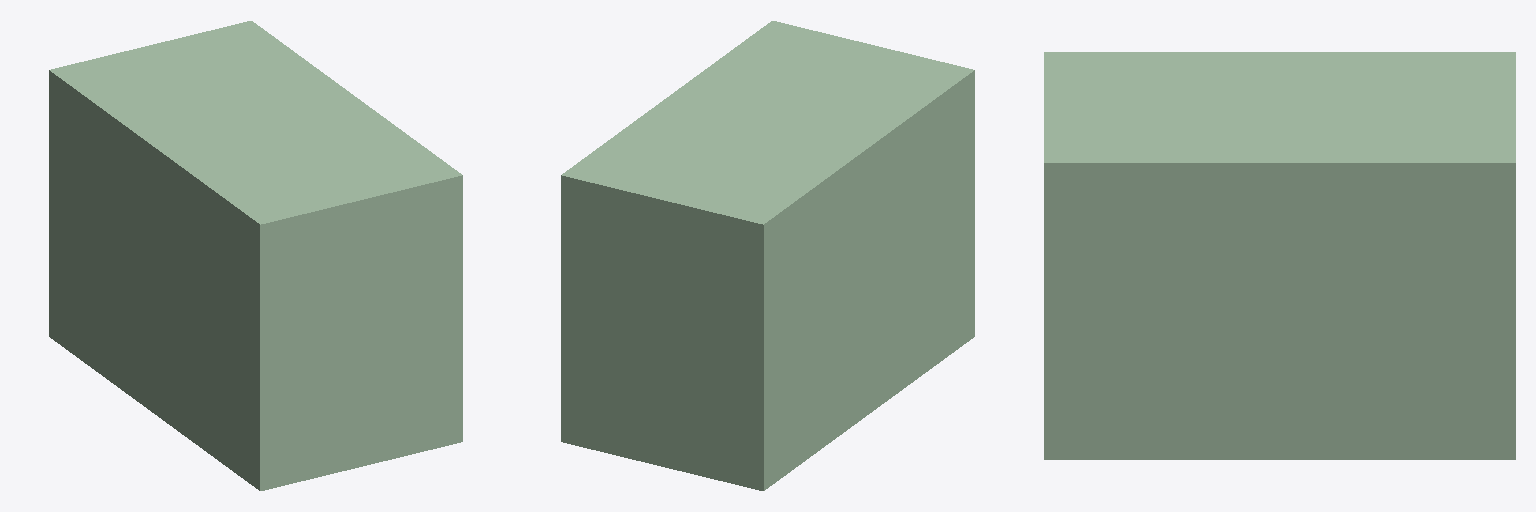
The robot description file, URDF, robot "box.urdf":
<?xml version="1.0" ?>
<robot name="box.urdf">
  <link name="baseLink">
    <contact>
      <lateral_friction value="1.0"/>
      <rolling_friction value="0.0001"/>
      <inertia_scaling value="3.0"/>
    </contact>
    <inertial>
      <origin rpy="0 0 0" xyz="0 0 0"/>
       <mass value="0.1"/>
       <inertia ixx="1" ixy="0" ixz="0" iyy="1" iyz="0" izz="1"/>
    </inertial>
    <visual>
      <origin rpy="0 0 0" xyz="0 0 0"/>
      <geometry>
        <!-- <box size="0.20199999999999999 0.365 0.254"/> -->
        <mesh filename="box/box.obj" scale="0.20199999999999999 0.365 0.254"/>
      </geometry>
      <material name="white">
        <color rgba="0.7 0.8 0.7 1"/>
      </material>
    </visual>
    <collision>
      <origin rpy="0 0 0" xyz="0 0 0"/>
      <geometry>
        <mesh filename="box/box.obj" scale="0.20199999999999999 0.365 0.254"/>
	 	    <!-- <box size="0.20199999999999999 0.365 0.254"/> -->
      </geometry>
    </collision>
  </link>
</robot>

--- What the picture shows (computed from the rendered views, not written in the file) ---
The picture shows the robot from 3 angles, left to right: view 1: azimuth 30°, elevation 25°; view 2: azimuth 150°, elevation 25°; view 3: azimuth 270°, elevation 25°; orthographic projection.
Robot: box.urdf — 1 links, 0 joints (none); root link baseLink; default pose: all joints at 0.
Visible links, largest first — view 1: baseLink; view 2: baseLink; view 3: baseLink.
Link boxes in pixels (<box>): baseLink: <box>49,21,462,490</box>; baseLink: <box>561,21,974,490</box>; baseLink: <box>1044,52,1515,459</box>.
Size in the robot's own frame: 0.202 by 0.365 by 0.254 metres.
1 mesh visuals loaded from 1 distinct referenced files (1 OBJ).
